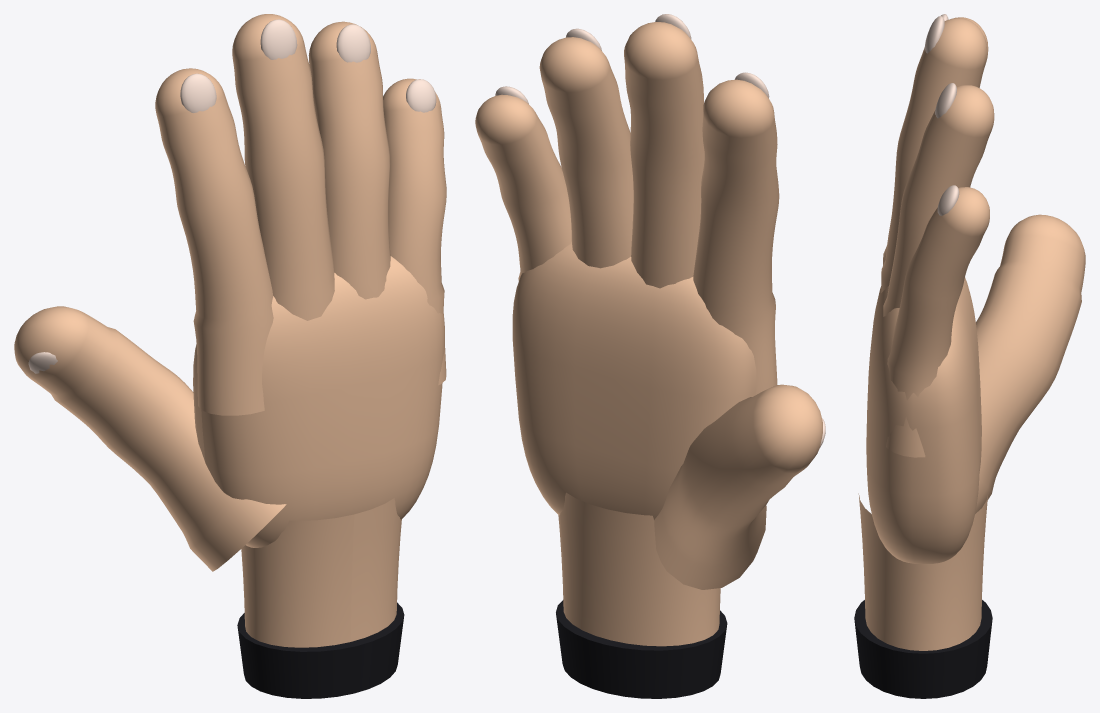
Rendered from hand-right-open.glb.
3 renders of one model, left to right at view 1: azimuth 30°, elevation 25°; view 2: azimuth 150°, elevation 25°; view 3: azimuth 270°, elevation 25°, orthographic. The views are drawn at different scales.
Parts seen in each view (by area): view 1: hand-right-open; view 2: hand-right-open; view 3: hand-right-open.
Boxes of the visible parts, left/top/right/bottom form: hand-right-open: left=14, top=14, right=446, bottom=698; hand-right-open: left=475, top=14, right=825, bottom=698; hand-right-open: left=854, top=14, right=1085, bottom=698.
Bounding box in the file's own units: 0.1264 × 0.2105 × 0.0699.
